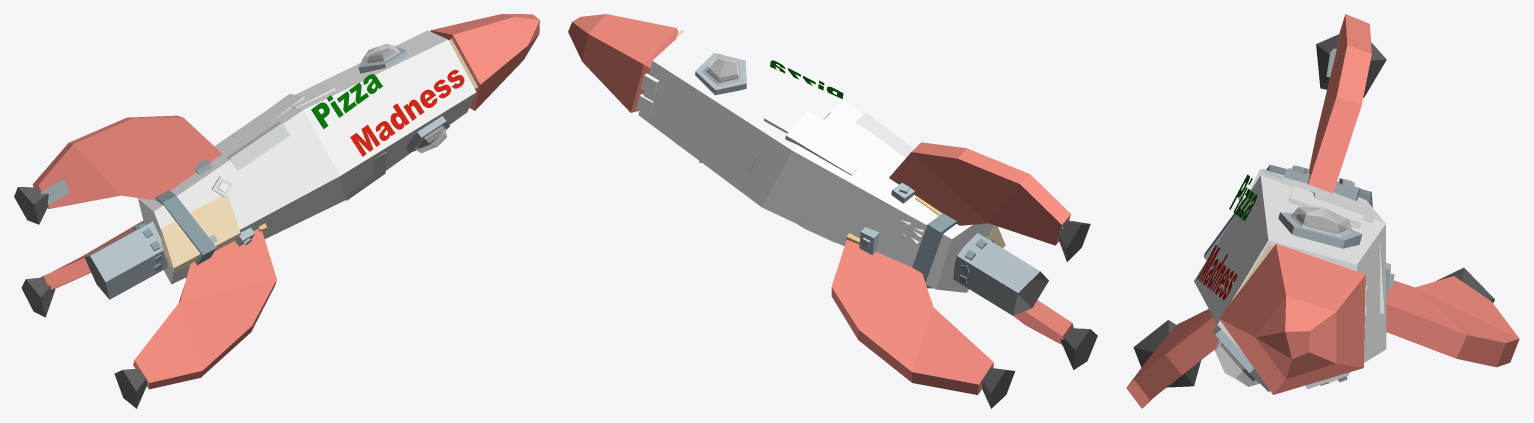
File: CoheteFBX.fbx
The picture shows the model from 3 angles, left to right: view 1: azimuth 30°, elevation 25°; view 2: azimuth 150°, elevation 25°; view 3: azimuth 270°, elevation 25°; orthographic projection. The views are drawn at different scales.
Visible parts, largest first — view 1: group_1549935890, Madness, Pizza; view 2: group_1549935890; view 3: group_1549935890, Madness, Pizza.
Boxes of the visible parts, <box> form: group_1549935890: <box>14,14,539,408</box>; Madness: <box>350,69,464,156</box>; Pizza: <box>311,74,382,129</box>; group_1549935890: <box>568,14,1097,408</box>; group_1549935890: <box>1126,14,1519,408</box>; Madness: <box>1197,245,1237,300</box>; Pizza: <box>1229,174,1257,220</box>.
Size of the model in its own units: 541 by 266 by 219.
